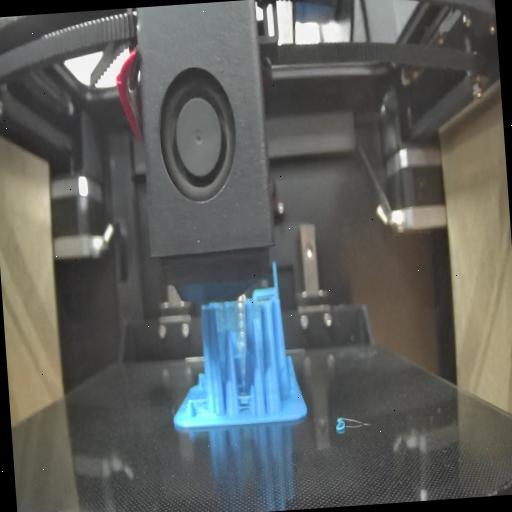stringing: (214, 298, 266, 334), (235, 387, 257, 412), (186, 393, 210, 409)
